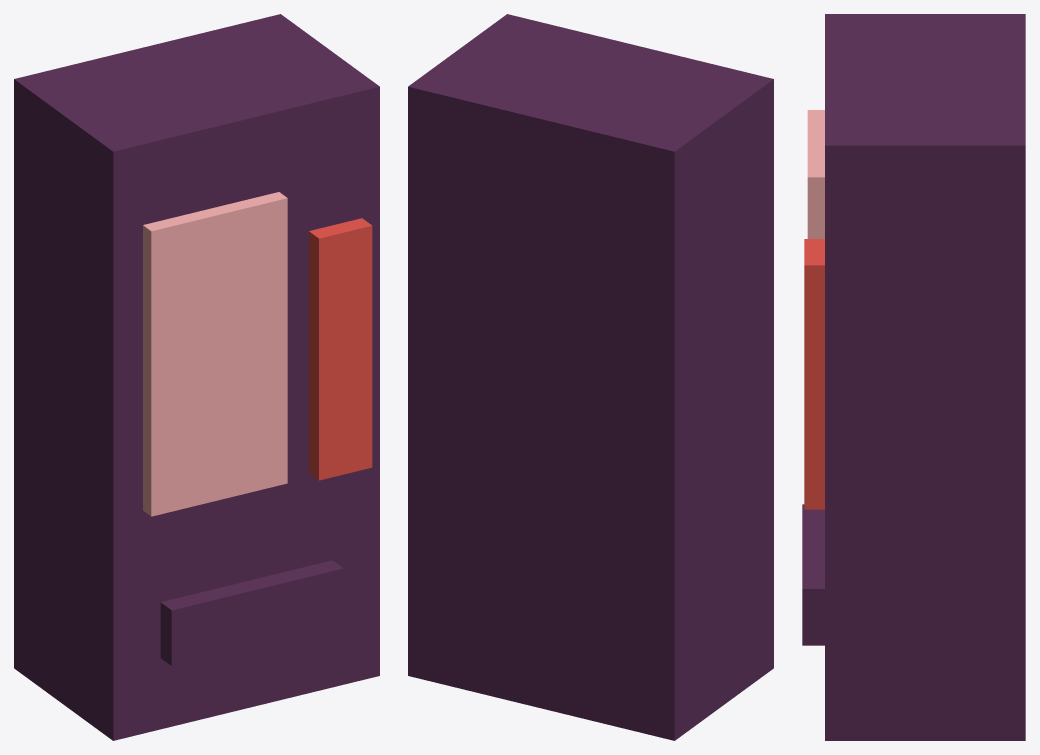
Rendered from vending-machine.obj.
3 renders of one model, left to right at view 1: azimuth 30°, elevation 25°; view 2: azimuth 150°, elevation 25°; view 3: azimuth 270°, elevation 25°, orthographic.
Parts seen in each view (by area): view 1: cozy-vending-body, glowing-drink-window, button-column, pickup-slot; view 2: cozy-vending-body; view 3: cozy-vending-body, button-column, pickup-slot, glowing-drink-window.
Boxes of the visible parts, x1=… form: cozy-vending-body: x1=14, y1=14, x2=379, y2=740; glowing-drink-window: x1=143, y1=192, x2=287, y2=516; button-column: x1=309, y1=218, x2=372, y2=480; pickup-slot: x1=160, y1=560, x2=343, y2=665; cozy-vending-body: x1=408, y1=14, x2=773, y2=740; cozy-vending-body: x1=825, y1=14, x2=1025, y2=740; button-column: x1=804, y1=239, x2=824, y2=509; pickup-slot: x1=802, y1=504, x2=824, y2=645; glowing-drink-window: x1=807, y1=110, x2=824, y2=238.
Size of the model in its own units: 0.9 by 1.9 by 0.645.
